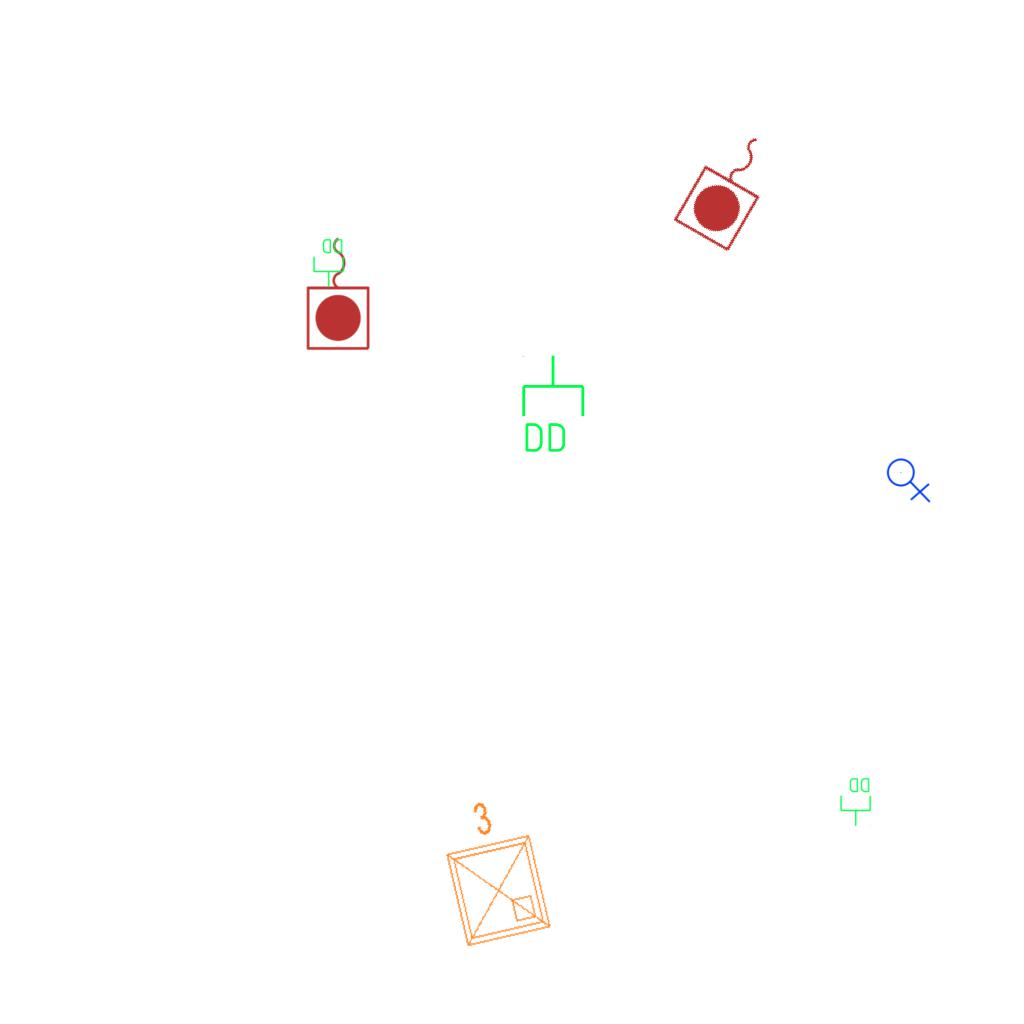Datenanschluss_zweifach: (518, 353, 587, 456), (839, 776, 873, 827), (312, 237, 346, 288)
Einbaudownlights_LED_Konferenzraeume: (424, 786, 560, 956)
Elektroanschluss_allgemein_230V_Geraeteanschlussdose_230V: (886, 454, 933, 503)
Zugtaster: (668, 116, 792, 258), (303, 232, 375, 354)
